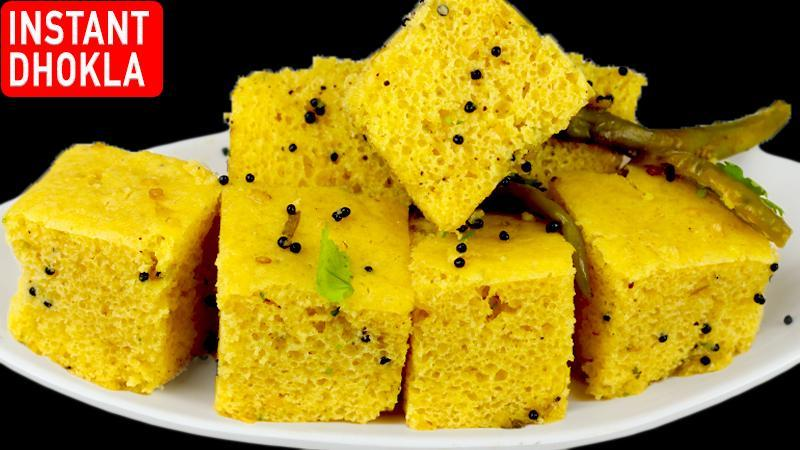dhokla: (212, 0, 785, 416), (15, 142, 204, 396)
